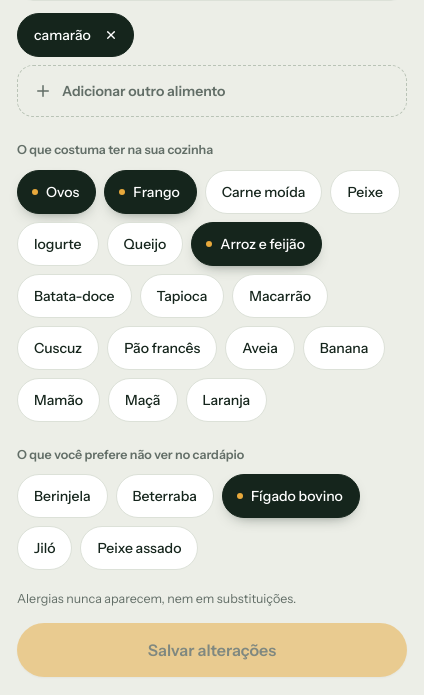
Test case: Preferências e restrições (S18) › abre com o perfil e só libera "Salvar alterações" quando algo muda
(page scrolled)
Expected: the button "Salvar alterações" is disabled, x1=17 y1=623 x2=407 y2=677
Click the button "Maçã".
click(143, 400)  # box x1=108 y1=378 x2=178 y2=422
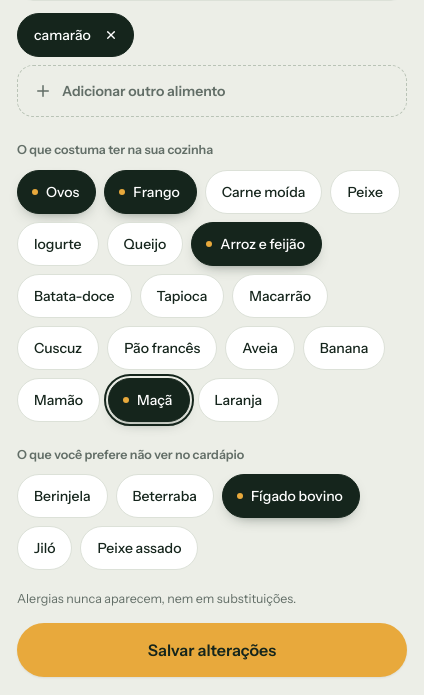
Expected: the button "Salvar alterações" is enabled, x1=17 y1=623 x2=407 y2=677
Click the button "Maçã".
click(149, 400)  # box x1=108 y1=378 x2=190 y2=422
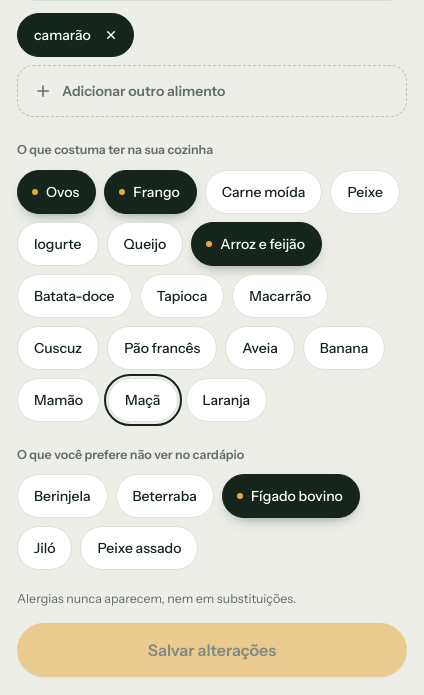
Expected: the button "Salvar alterações" is disabled, x1=17 y1=623 x2=407 y2=677
